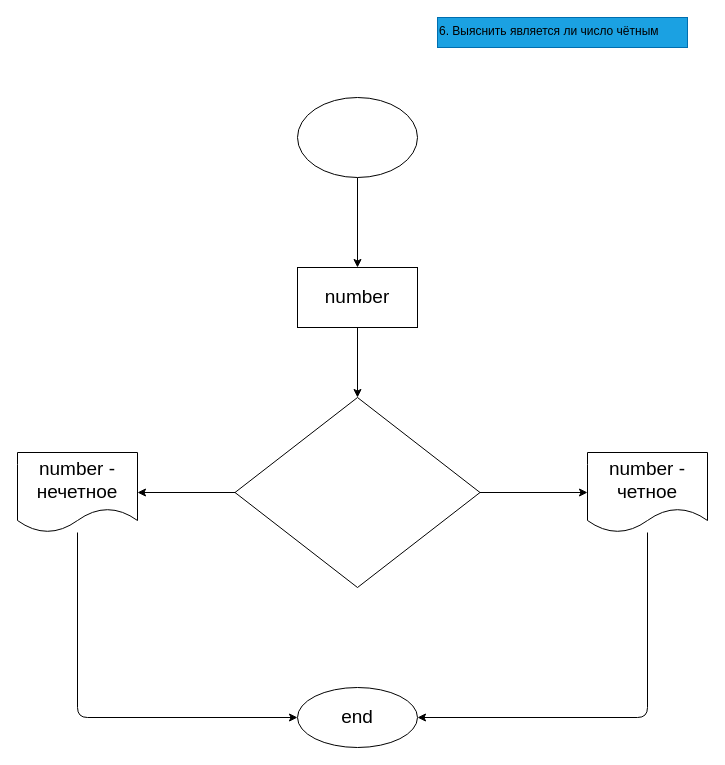
Some shapes in this 725 by 765 pixel diagram are drawn without their labels. Here are the shapes that lost their labels. From the top down, the centre of each, then its label:
(x=357, y=137): start
(x=357, y=492): number mod 2 = 0
